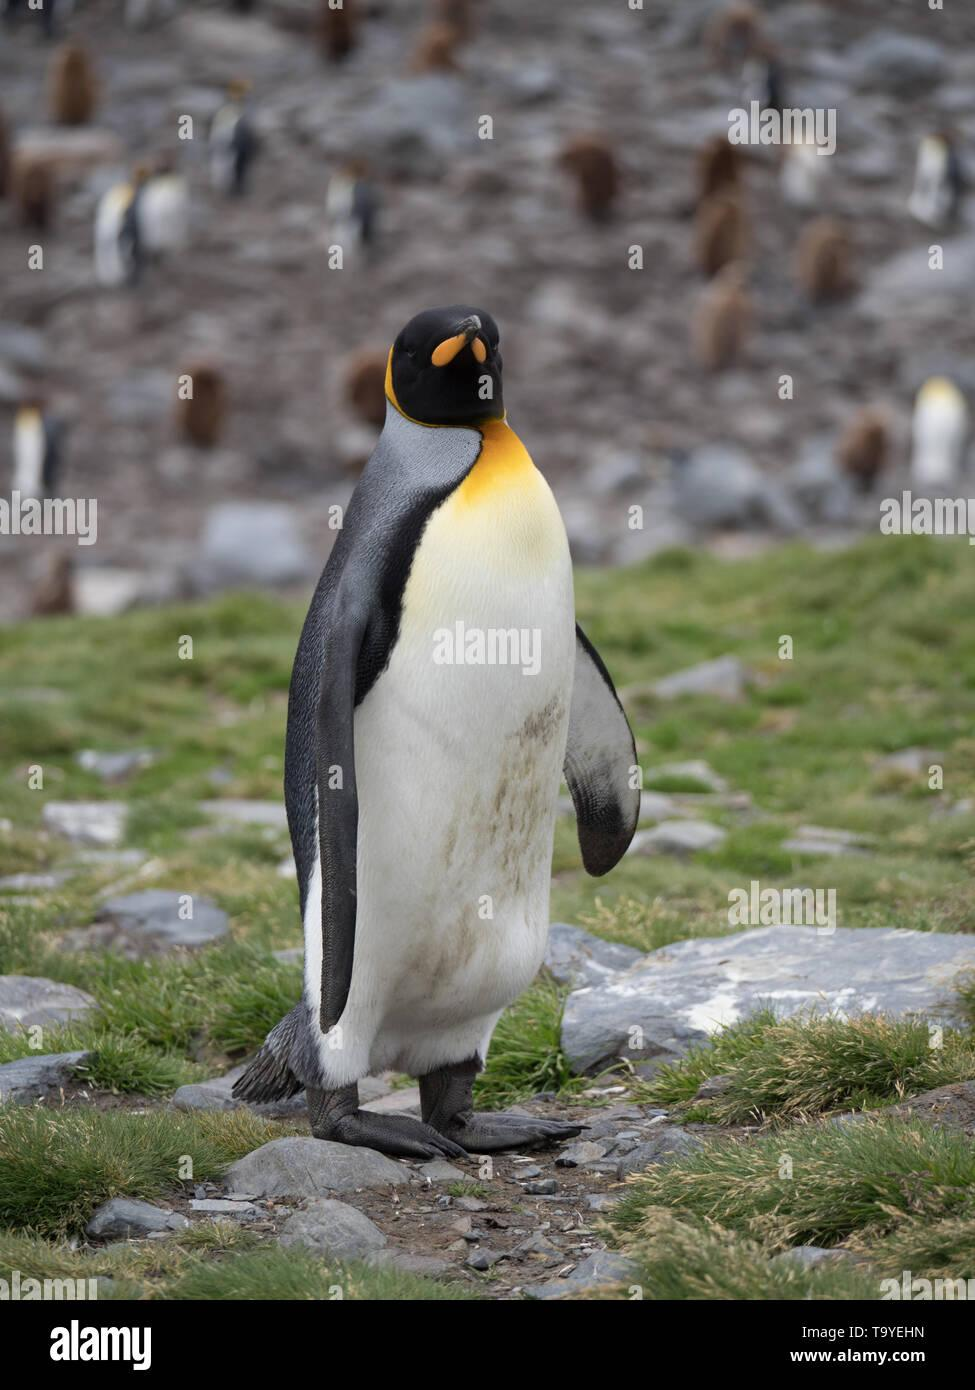king: (264, 290, 696, 1177)
